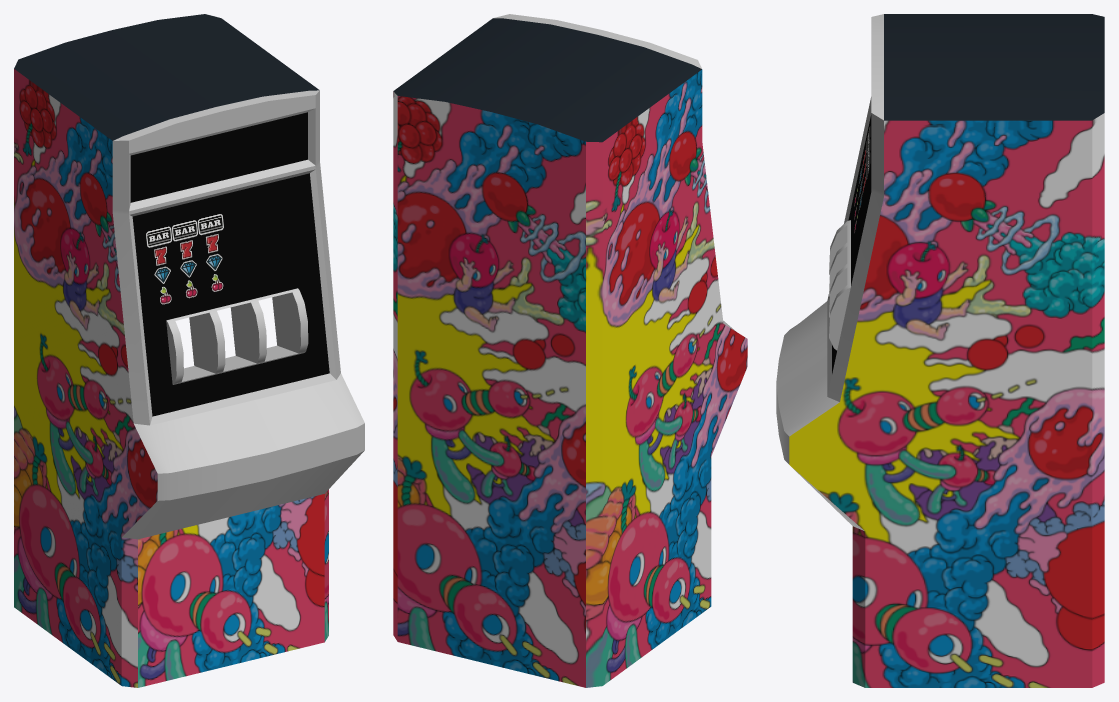
The model's file is slotMachine_4_collider.gltf.
3 views of the same model, side by side, from view 1: azimuth 30°, elevation 25°; view 2: azimuth 150°, elevation 25°; view 3: azimuth 270°, elevation 25° (orthographic). The views are drawn at different scales.
Parts seen in each view (by area): view 1: NewBody.V3; view 2: NewBody.V3; view 3: NewBody.V3.
Boxes of the visible parts, x1,y1,x2,y2 form: NewBody.V3: [14, 14, 364, 687]; NewBody.V3: [393, 14, 747, 687]; NewBody.V3: [776, 14, 1104, 687].
Size of what is drawn, in the model's own units: 2 by 5.05 by 2.61.
5 materials, 2 textured.
